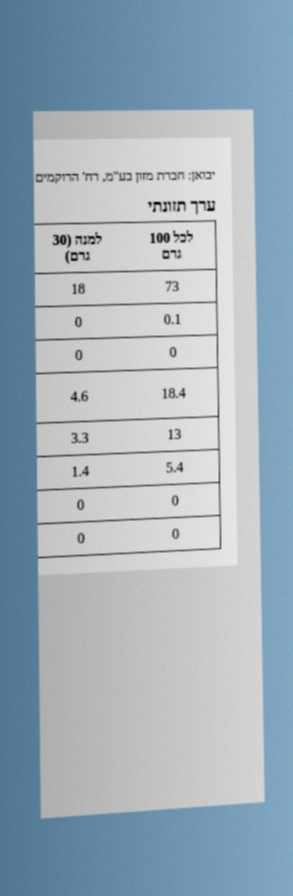carbs: (159, 383, 188, 403)
energy: (163, 277, 181, 296)
fat: (162, 310, 183, 329)
protein: (170, 491, 181, 510)
